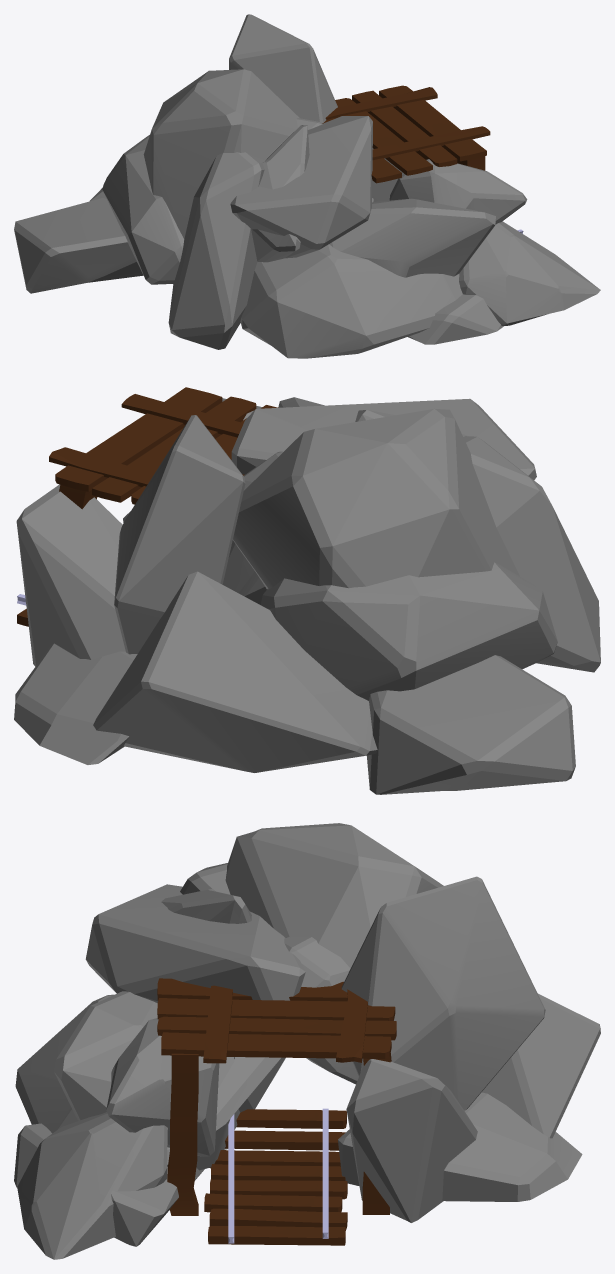
Rendered from goldMine.fbx.
3 renders of one model, top to bottom at view 1: azimuth 30°, elevation 25°; view 2: azimuth 150°, elevation 25°; view 3: azimuth 270°, elevation 25°, orthographic. The views are drawn at different scales.
Parts seen in each view (by area): view 1: Cube.001; view 2: Cube.001; view 3: Cube.001.
Boxes of the visible parts, bbox=[...] form: Cube.001: bbox=[14, 14, 600, 358]; Cube.001: bbox=[14, 387, 600, 794]; Cube.001: bbox=[14, 823, 600, 1259].
Bounding box in the file's own units: 633 × 282 × 563.
